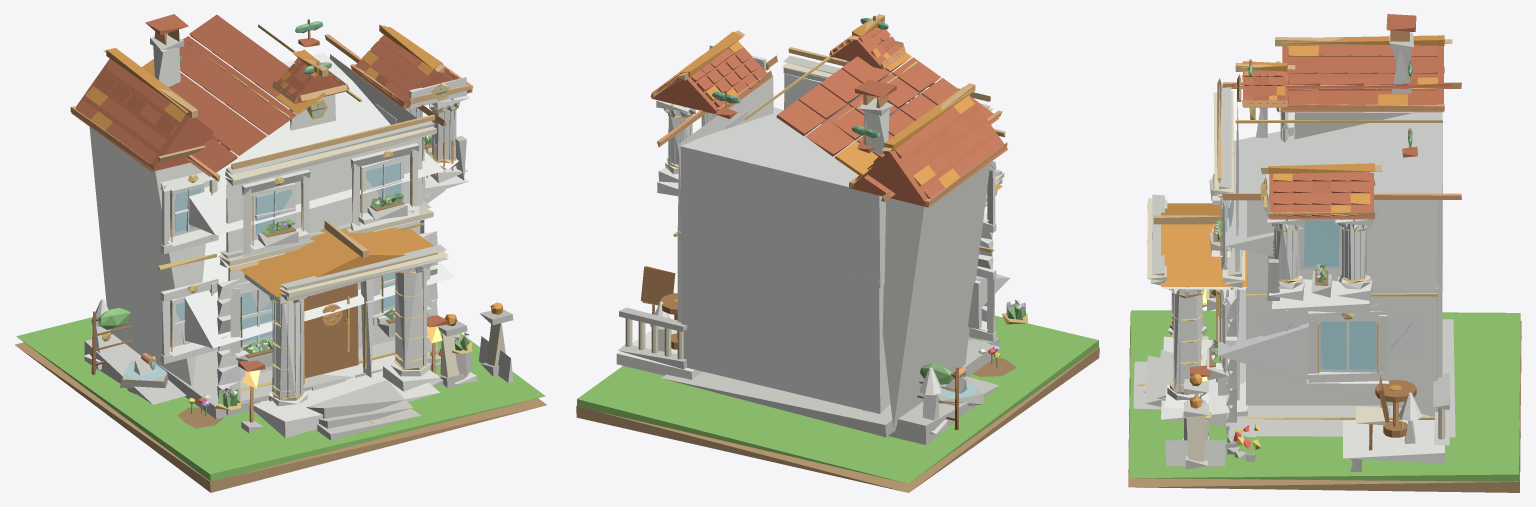
File: villa_l05_active_LOD2.glb
3 views of the same model, side by side, from view 1: azimuth 30°, elevation 25°; view 2: azimuth 150°, elevation 25°; view 3: azimuth 270°, elevation 25° (orthographic).
Visible parts, largest first — view 1: villa_grass_tile_villa_l05_active_LOD2_tmp, villa_l05_active_left_pavilion_shell_villa_l05_active_LOD2_t, villa_l05_active_full_upper_shell_villa_l05_active_LOD2_tmp, villa_earth_tile_villa_l05_active_LOD2_tmp, villa_l05_active_wide_portico_roof_gable_roof_villa_l05_acti, villa_l05_active_upper_front_cladding_villa_l05_active_LOD2_, villa_l01_active_v2_marble_core_villa_l05_active_LOD2_tmp, villa_l01_active_v2_entry_door_villa_l05_active_LOD2_tmp, villa_l05_active_wide_porch_villa_l05_active_LOD2_tmp, villa_l05_active_left_pavilion_roof_gable_roof_villa_l05_act, villa_l01_active_v2_base_stone_block_low_medium_foundation_v, villa_l05_active_wide_column_1_shaft_villa_l05_active_LOD2_t (+51 smaller); view 2: villa_l01_active_v2_marble_core_villa_l05_active_LOD2_tmp, villa_l05_active_full_upper_shell_villa_l05_active_LOD2_tmp, villa_grass_tile_villa_l05_active_LOD2_tmp, villa_l05_active_left_pavilion_shell_villa_l05_active_LOD2_t, villa_earth_tile_villa_l05_active_LOD2_tmp, villa_l01_active_v2_base_stone_block_low_medium_foundation_v, villa_l05_active_left_pavilion_roof_gable_roof_villa_l05_act, villa_l05_active_left_pavilion_foundation_villa_l05_active_L, villa_l05_active_upper_right_cladding_villa_l05_active_LOD2_, villa_l05_active_balcony_gable_gable_roof_villa_l05_active_L, villa_l05_active_terrace_deck_villa_l05_active_LOD2_tmp, villa_l05_active_chair_back_villa_l05_active_LOD2_tmp (+18 smaller); view 3: villa_grass_tile_villa_l05_active_LOD2_tmp, villa_l05_active_full_upper_shell_villa_l05_active_LOD2_tmp, villa_l01_active_v2_right_marble_cladding_villa_l05_active_L, villa_l05_active_upper_right_cladding_villa_l05_active_LOD2_, villa_l01_active_v2_marble_core_villa_l05_active_LOD2_tmp, villa_l01_active_v2_base_stone_block_low_medium_foundation_v, villa_earth_tile_villa_l05_active_LOD2_tmp, villa_l05_active_wide_portico_roof_gable_roof_villa_l05_acti, villa_l05_active_terrace_deck_villa_l05_active_LOD2_tmp, villa_l05_active_left_pavilion_roof_gable_roof_villa_l05_act, villa_l01_active_v2_side_window_glass_villa_l05_active_LOD2_, villa_l05_active_wide_column_1_shaft_villa_l05_active_LOD2_t (+40 smaller).
Part boxes in pixels (bbox=[...]): villa_grass_tile_villa_l05_active_LOD2_tmp: bbox=[16, 317, 545, 481]; villa_l05_active_left_pavilion_shell_villa_l05_active_LOD2_t: bbox=[89, 127, 209, 386]; villa_l05_active_full_upper_shell_villa_l05_active_LOD2_tmp: bbox=[189, 53, 444, 235]; villa_earth_tile_villa_l05_active_LOD2_tmp: bbox=[15, 342, 546, 492]; villa_l05_active_wide_portico_roof_gable_roof_villa_l05_acti: bbox=[240, 228, 433, 297]; villa_l05_active_upper_front_cladding_villa_l05_active_LOD2_: bbox=[226, 137, 422, 252]; villa_l01_active_v2_marble_core_villa_l05_active_LOD2_tmp: bbox=[184, 233, 454, 348]; villa_l01_active_v2_entry_door_villa_l05_active_LOD2_tmp: bbox=[304, 283, 358, 378]; villa_l05_active_wide_porch_villa_l05_active_LOD2_tmp: bbox=[253, 355, 439, 438]; villa_l05_active_left_pavilion_roof_gable_roof_villa_l05_act: bbox=[71, 58, 226, 171]; villa_l01_active_v2_base_stone_block_low_medium_foundation_v: bbox=[155, 340, 440, 419]; villa_l05_active_wide_column_1_shaft_villa_l05_active_LOD2_t: bbox=[395, 268, 427, 370]; villa_l01_active_v2_marble_core_villa_l05_active_LOD2_tmp: bbox=[681, 240, 1009, 413]; villa_l05_active_full_upper_shell_villa_l05_active_LOD2_tmp: bbox=[680, 107, 999, 287]; villa_grass_tile_villa_l05_active_LOD2_tmp: bbox=[577, 315, 1098, 483]; villa_l05_active_left_pavilion_shell_villa_l05_active_LOD2_t: bbox=[882, 162, 990, 428]; villa_earth_tile_villa_l05_active_LOD2_tmp: bbox=[576, 347, 1099, 492]; villa_l01_active_v2_base_stone_block_low_medium_foundation_v: bbox=[661, 339, 995, 437]; villa_l05_active_left_pavilion_roof_gable_roof_villa_l05_act: bbox=[850, 95, 1007, 207]; villa_l05_active_left_pavilion_foundation_villa_l05_active_L: bbox=[862, 376, 999, 444]; villa_l05_active_upper_right_cladding_villa_l05_active_LOD2_: bbox=[677, 75, 773, 231]; villa_l05_active_balcony_gable_gable_roof_villa_l05_active_L: bbox=[651, 41, 771, 113]; villa_l05_active_terrace_deck_villa_l05_active_LOD2_tmp: bbox=[616, 329, 702, 379]; villa_l05_active_chair_back_villa_l05_active_LOD2_tmp: bbox=[640, 266, 675, 304]; villa_grass_tile_villa_l05_active_LOD2_tmp: bbox=[1129, 310, 1520, 481]; villa_l05_active_full_upper_shell_villa_l05_active_LOD2_tmp: bbox=[1225, 112, 1442, 291]; villa_l01_active_v2_right_marble_cladding_villa_l05_active_L: bbox=[1246, 287, 1437, 405]; villa_l05_active_upper_right_cladding_villa_l05_active_LOD2_: bbox=[1247, 200, 1437, 289]; villa_l01_active_v2_marble_core_villa_l05_active_LOD2_tmp: bbox=[1218, 284, 1442, 416]; villa_l01_active_v2_base_stone_block_low_medium_foundation_v: bbox=[1228, 319, 1455, 437]; villa_earth_tile_villa_l05_active_LOD2_tmp: bbox=[1128, 318, 1521, 492]; villa_l05_active_wide_portico_roof_gable_roof_villa_l05_acti: bbox=[1161, 203, 1247, 286]; villa_l05_active_terrace_deck_villa_l05_active_LOD2_tmp: bbox=[1343, 416, 1444, 463]; villa_l05_active_left_pavilion_roof_gable_roof_villa_l05_act: bbox=[1282, 46, 1443, 112]; villa_l01_active_v2_side_window_glass_villa_l05_active_LOD2_: bbox=[1320, 321, 1375, 370]; villa_l05_active_wide_column_1_shaft_villa_l05_active_LOD2_t: bbox=[1172, 289, 1202, 394].
Size of what is drawn, in the model's own units: 3.6 by 3.56 by 3.6.
